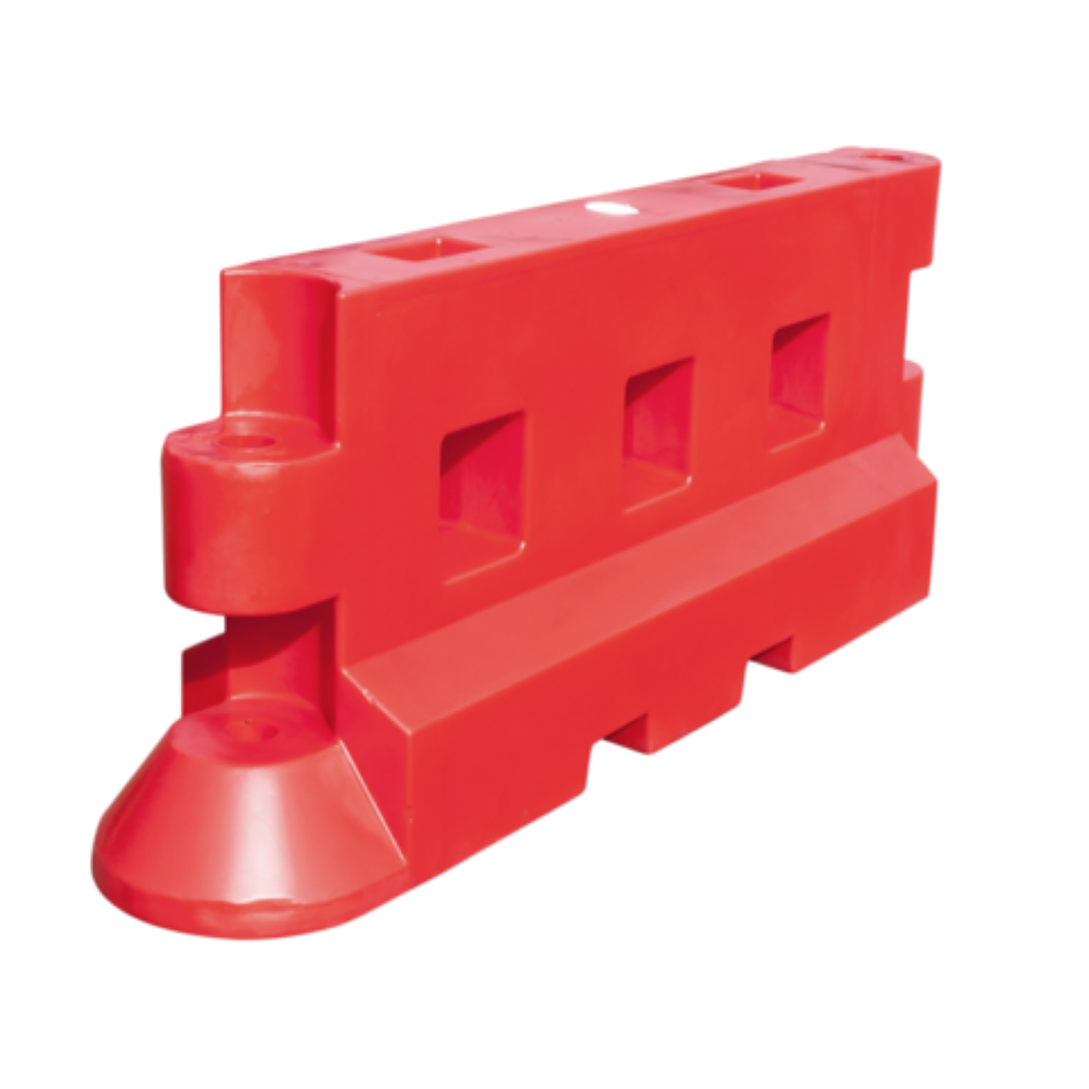Barrier: (43, 135, 1021, 981)
